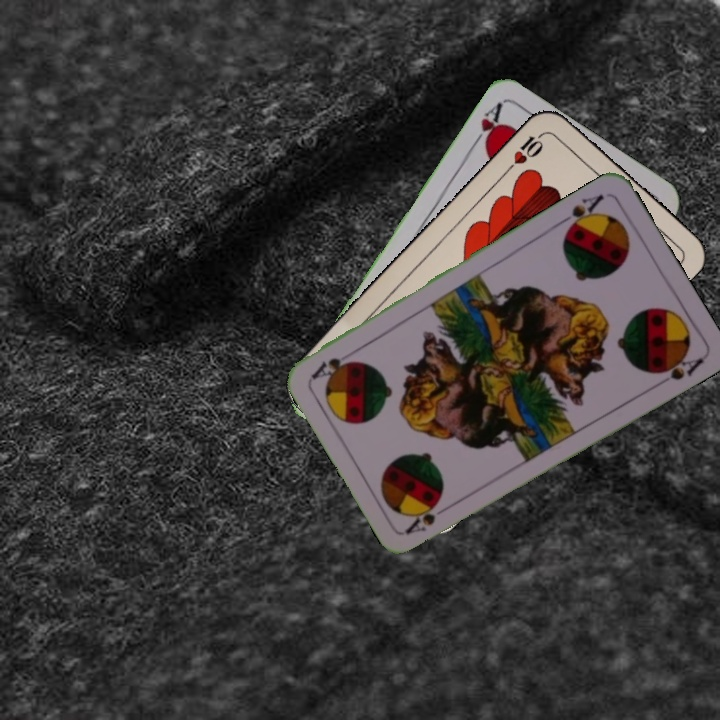H10: (503, 127, 549, 174)
HA: (466, 99, 505, 152)
SA: (555, 190, 607, 236), (402, 498, 456, 536)
